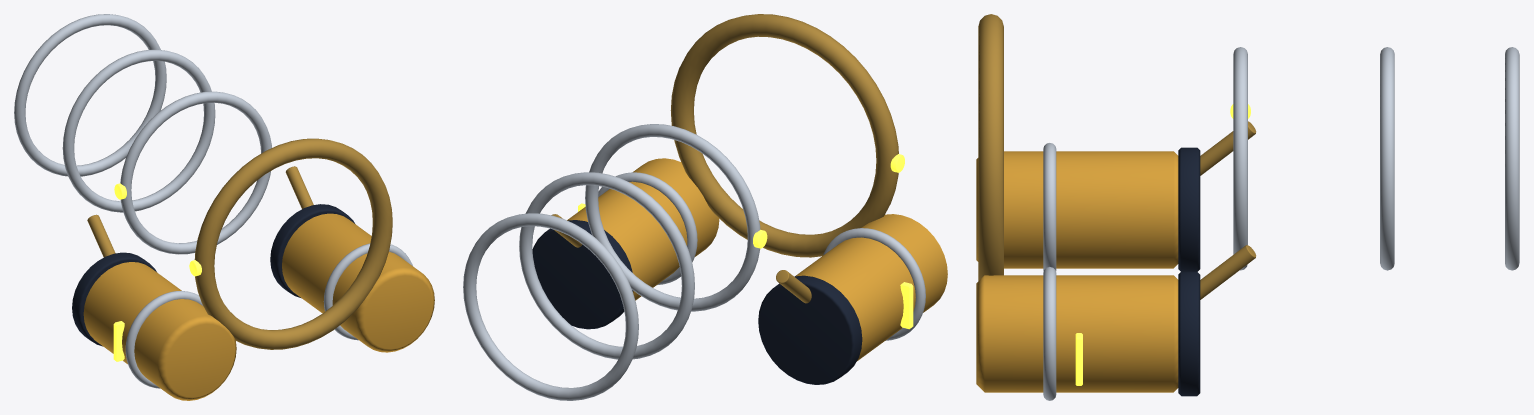
Rendered from tower_nova_damage_s4.glb.
The picture shows the model from 3 angles, left to right: view 1: azimuth 30°, elevation 25°; view 2: azimuth 150°, elevation 25°; view 3: azimuth 270°, elevation 25°; orthographic projection. The views are drawn at different scales.
Visible parts, largest first — view 1: nova_napalm_can_r, nova_pressure_ring, nova_napalm_can_l, nova_tube_band1.02, nova_tube_band1.36, nova_tube_band0.62, nova_napalm_cap_l, nova_napalm_cap_r, nova_napalm_strap_r, nova_napalm_strap_l, nova_napalm_line_l, nova_napalm_line_r (+1 smaller); view 2: nova_pressure_ring, nova_napalm_can_r, nova_napalm_cap_r, nova_napalm_can_l, nova_tube_band1.36, nova_tube_band1.02, nova_tube_band0.62, nova_napalm_cap_l, nova_napalm_strap_r, nova_napalm_strap_l, nova_napalm_line_r, nova_napalm_gauge_r; view 3: nova_napalm_can_l, nova_napalm_can_r, nova_pressure_ring, nova_tube_band1.02, nova_tube_band1.36, nova_tube_band0.62, nova_napalm_cap_l, nova_napalm_cap_r, nova_napalm_strap_l, nova_napalm_strap_r, nova_napalm_line_l, nova_napalm_line_r.
Boxes of the visible parts, bbox=[...] form: nova_napalm_can_r: bbox=[83, 262, 236, 400]; nova_pressure_ring: bbox=[194, 138, 392, 349]; nova_napalm_can_l: bbox=[282, 213, 434, 352]; nova_tube_band1.02: bbox=[62, 49, 215, 212]; nova_tube_band1.36: bbox=[14, 14, 166, 176]; nova_tube_band0.62: bbox=[120, 91, 271, 254]; nova_napalm_cap_l: bbox=[270, 204, 354, 298]; nova_napalm_cap_r: bbox=[72, 252, 156, 346]; nova_napalm_strap_r: bbox=[125, 290, 202, 388]; nova_napalm_strap_l: bbox=[323, 243, 412, 340]; nova_napalm_line_l: bbox=[285, 166, 313, 208]; nova_napalm_line_r: bbox=[87, 214, 115, 257]; nova_pressure_ring: bbox=[670, 14, 898, 257]; nova_napalm_can_r: bbox=[795, 214, 947, 360]; nova_napalm_cap_r: bbox=[758, 275, 862, 384]; nova_napalm_can_l: bbox=[567, 158, 719, 300]; nova_tube_band1.36: bbox=[463, 213, 638, 400]; nova_tube_band1.02: bbox=[519, 172, 694, 359]; nova_tube_band0.62: bbox=[585, 124, 760, 311]; nova_napalm_cap_l: bbox=[532, 220, 633, 329]; nova_napalm_strap_r: bbox=[823, 228, 925, 340]; nova_napalm_strap_l: bbox=[598, 172, 697, 284]; nova_napalm_line_r: bbox=[776, 270, 811, 303]; nova_napalm_gauge_r: bbox=[900, 282, 913, 329]; nova_napalm_can_l: bbox=[976, 275, 1178, 392]; nova_napalm_can_r: bbox=[976, 151, 1178, 268]; nova_pressure_ring: bbox=[978, 14, 1003, 280]; nova_tube_band1.02: bbox=[1380, 47, 1394, 270]; nova_tube_band1.36: bbox=[1505, 47, 1519, 270]; nova_tube_band0.62: bbox=[1233, 47, 1247, 270]; nova_napalm_cap_l: bbox=[1178, 271, 1200, 396]; nova_napalm_cap_r: bbox=[1178, 147, 1200, 271]; nova_napalm_strap_l: bbox=[1043, 267, 1056, 400]; nova_napalm_strap_r: bbox=[1043, 143, 1056, 271]; nova_napalm_line_l: bbox=[1200, 245, 1256, 299]; nova_napalm_line_r: bbox=[1200, 121, 1256, 175].
Bounding box in the file's own units: 1.17 × 0.918 × 1.48.
